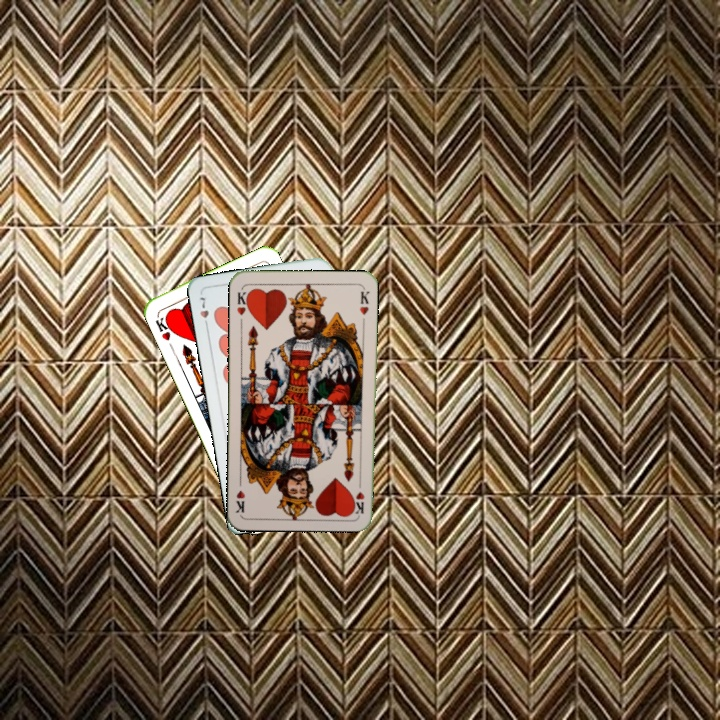H7: (195, 293, 211, 331)
HK: (151, 310, 177, 343), (351, 475, 367, 515), (233, 288, 252, 318)
